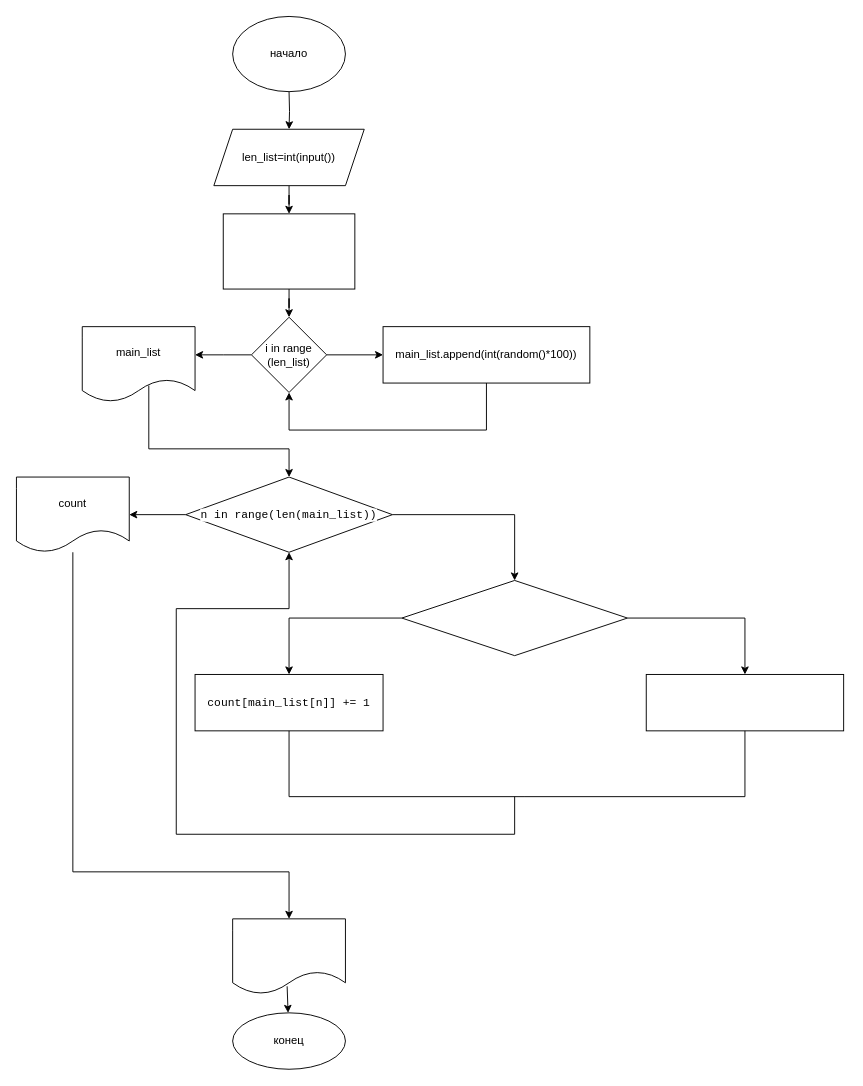
Image size: 863x1086. Some labels were removed from this diagram. Each missing label, with the centre of its shape:
"count.get(main_list[n]) == None" goes at pixel 514 618.
"count.update({main_list[n]:1})" goes at pixel 744 702.
"main_list = [] count = {}" goes at pixel 288 251.
"max(count, key=count.get)" goes at pixel 288 956.
